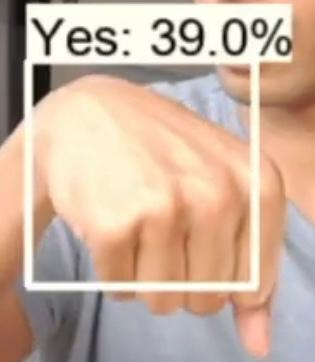Yes: (1, 69, 289, 362)
